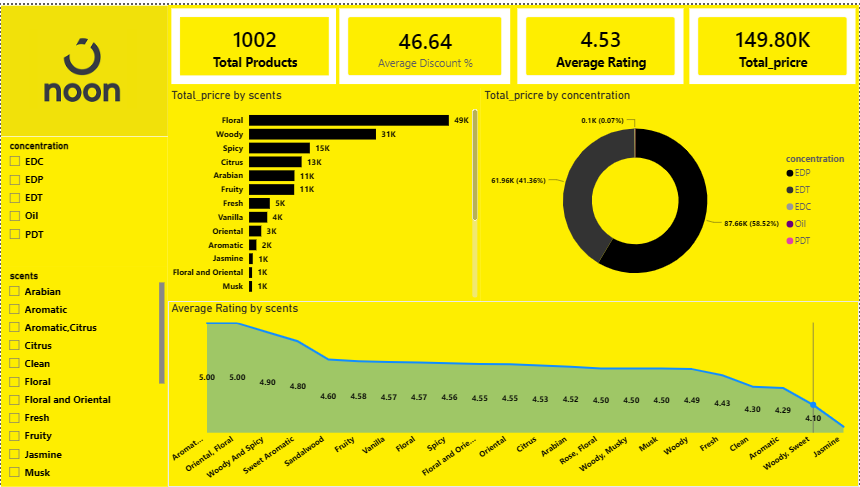

The dashboard page shown, as its layout file describes it:
{"tool":"powerbi","page":{"name":"concentration&&scents","canvas":[1280,720],"ordinal":3},"visuals":[{"type":"cardVisual","fields":{"Data":["noon_perfumes_clean.Total_pricre"]},"box":[1021.8,0,258.2,123.9],"z":0},{"type":"image","box":[0,0,249.3,197],"z":1000},{"type":"cardVisual","fields":{"Data":["noon_perfumes_clean.Average Rating"]},"box":[765.7,0,258.2,123.9],"z":2000},{"type":"slicer","fields":{"Values":["noon_perfumes_clean.concentration"]},"box":[0,197.3,249.1,194.4],"z":3000},{"type":"slicer","fields":{"Values":["noon_perfumes_clean.scents"]},"box":[0,391,249.3,328.4],"z":4000},{"type":"cardVisual","fields":{"Data":["noon_perfumes_clean.Total Products"]},"box":[249.3,0,258.2,123.9],"z":5000},{"type":"clusteredBarChart","fields":{"Category":["noon_perfumes_clean.scents"],"Y":["noon_perfumes_clean.Total_pricre"]},"box":[249.3,123.9,467.2,317.9],"z":6000},{"type":"cardVisual","fields":{"Data":["noon_perfumes_clean.Average Discount %"]},"box":[500,0,265.7,123.9],"z":7000},{"type":"stackedAreaChart","fields":{"Category":["noon_perfumes_clean.scents"],"Y":["noon_perfumes_clean.Average Rating"]},"box":[249.3,441.8,1031.3,277.6],"z":8000},{"type":"donutChart","fields":{"Category":["noon_perfumes_clean.concentration"],"Y":["noon_perfumes_clean.Total_pricre"]},"box":[716.4,123.9,564.2,317.9],"z":9000}]}

Visuals, with their boxes in screenshot pixels (x1, y1, x2, y2), scaled from the page's 1280x720 canvas onto the 860x487 screenshot:
cardVisual - noon_perfumes_clean.Total_pricre: {"x1": 687, "y1": 0, "x2": 859, "y2": 84}
image: {"x1": 0, "y1": 0, "x2": 167, "y2": 133}
cardVisual - noon_perfumes_clean.Average Rating: {"x1": 514, "y1": 0, "x2": 688, "y2": 84}
slicer - noon_perfumes_clean.concentration: {"x1": 0, "y1": 133, "x2": 167, "y2": 265}
slicer - noon_perfumes_clean.scents: {"x1": 0, "y1": 264, "x2": 167, "y2": 486}
cardVisual - noon_perfumes_clean.Total Products: {"x1": 167, "y1": 0, "x2": 341, "y2": 84}
clusteredBarChart - noon_perfumes_clean.scents x noon_perfumes_clean.Total_pricre: {"x1": 167, "y1": 84, "x2": 481, "y2": 299}
cardVisual - noon_perfumes_clean.Average Discount %: {"x1": 336, "y1": 0, "x2": 514, "y2": 84}
stackedAreaChart - noon_perfumes_clean.scents x noon_perfumes_clean.Average Rating: {"x1": 167, "y1": 299, "x2": 859, "y2": 486}
donutChart - noon_perfumes_clean.concentration x noon_perfumes_clean.Total_pricre: {"x1": 481, "y1": 84, "x2": 859, "y2": 299}
